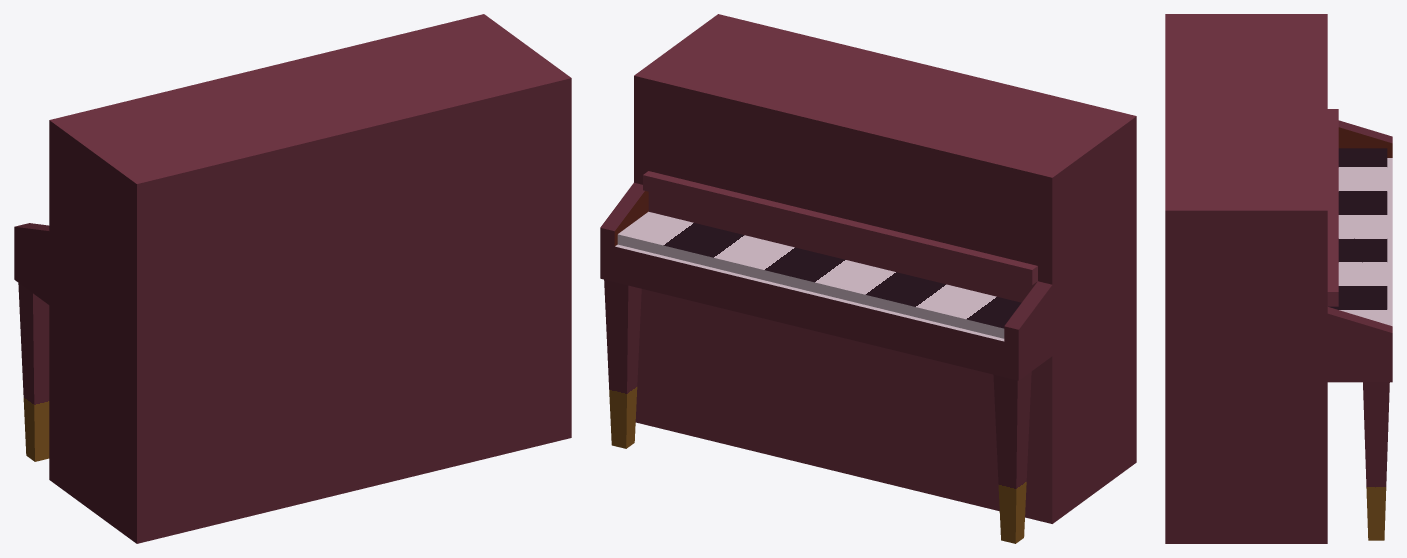
The model's file is piano_alive.obj.
The picture shows the model from 3 angles, left to right: view 1: azimuth 30°, elevation 25°; view 2: azimuth 150°, elevation 25°; view 3: azimuth 270°, elevation 25°; orthographic projection. The views are drawn at different scales.
Visible parts, largest first — view 1: piano; view 2: piano, keys; view 3: piano, keys.
Part boxes in pixels (x1,y1,x2,y2): piano: (14, 14, 571, 543); piano: (600, 14, 1136, 543); keys: (617, 211, 1021, 338); piano: (1165, 14, 1392, 543); keys: (1328, 148, 1387, 324).
Bounding box in the file's own units: 0.5375 × 0.425 × 0.2625.
1 material, 1 textured.
